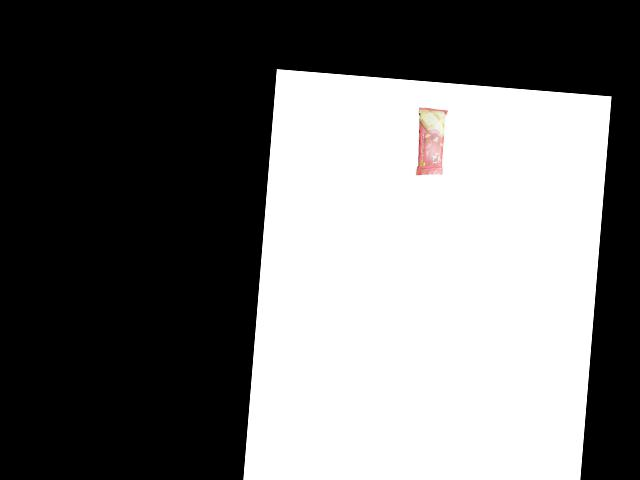chocolate: (408, 106, 449, 181)
